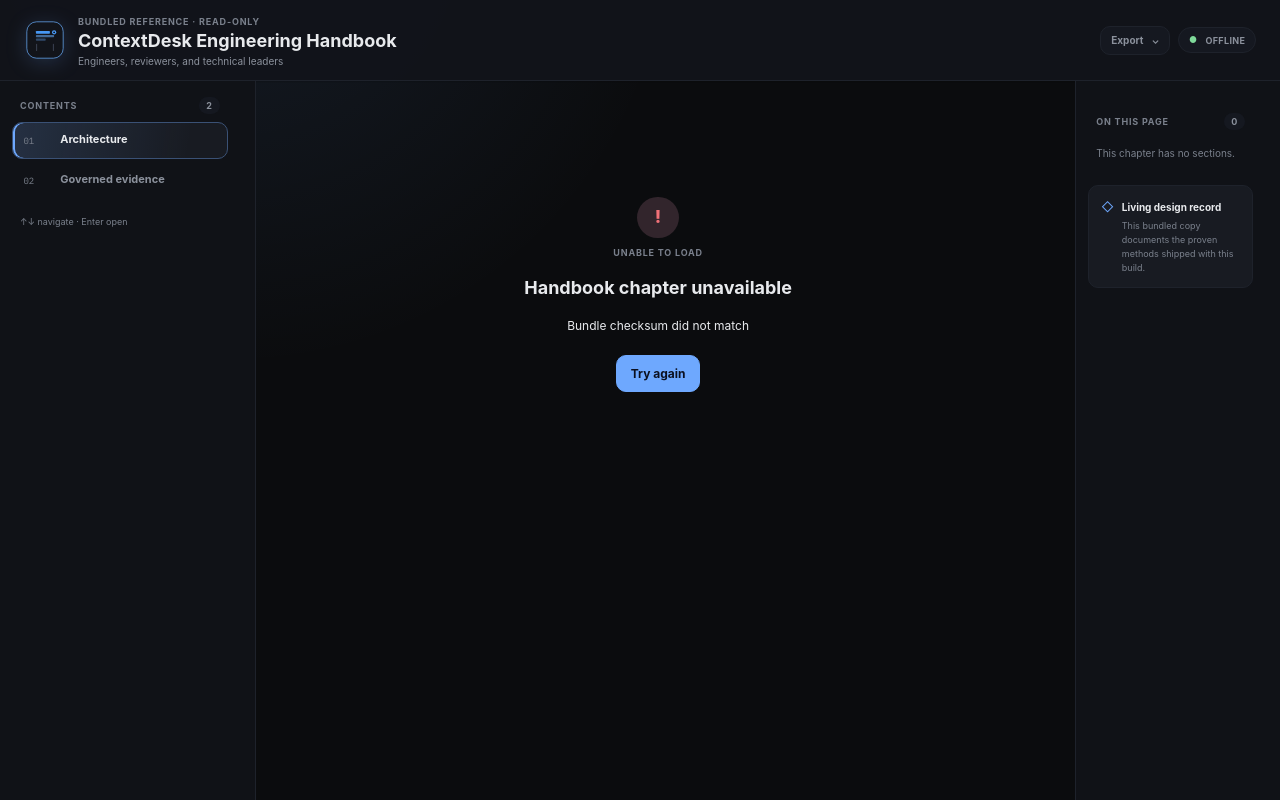
Test case: EngineeringHandbook › shows a useful error and retries a failed chapter
This screenshot has width=1280, height=800.
Expected: the message shows "Bundle checksum did not match", [567,318,749,333]
Step 1. Click the button "Try again" → (658,373), box [616,355,700,392]
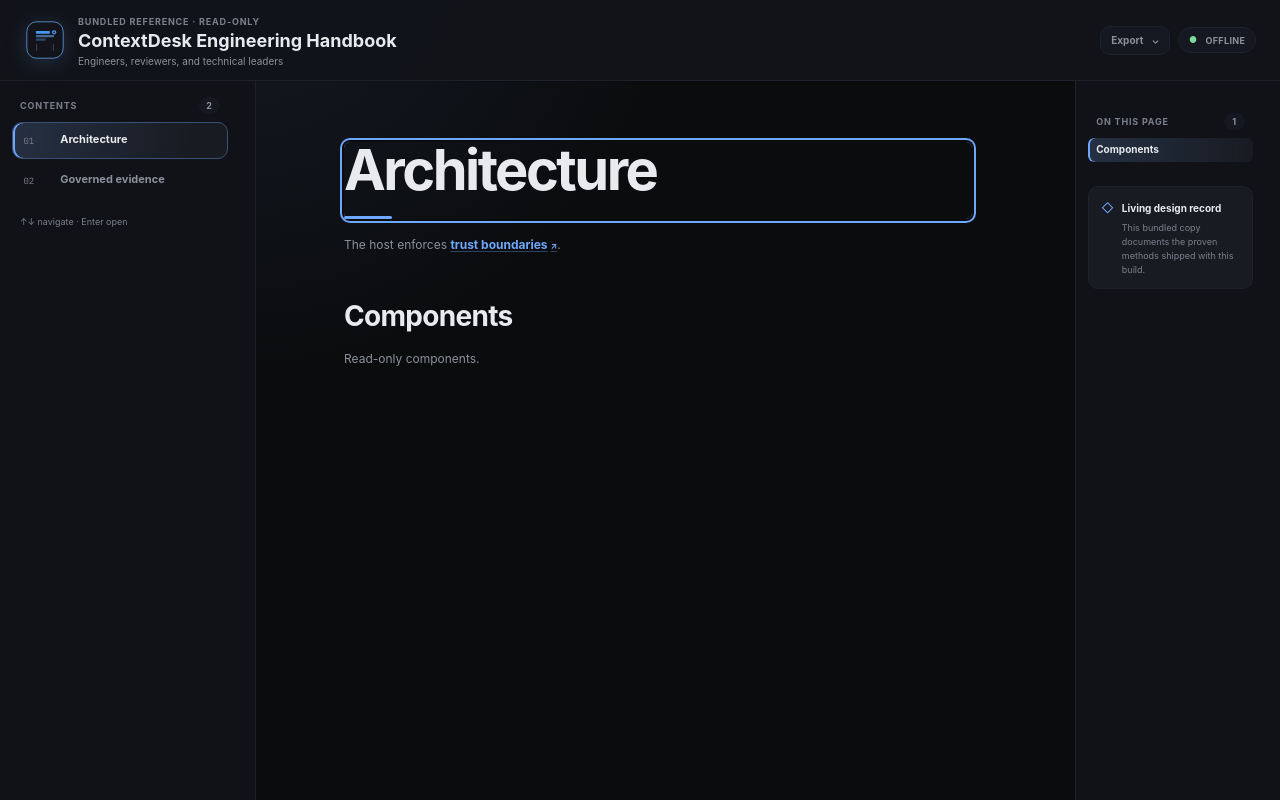
Result: the heading "Architecture" is shown at [344,142,972,219]
